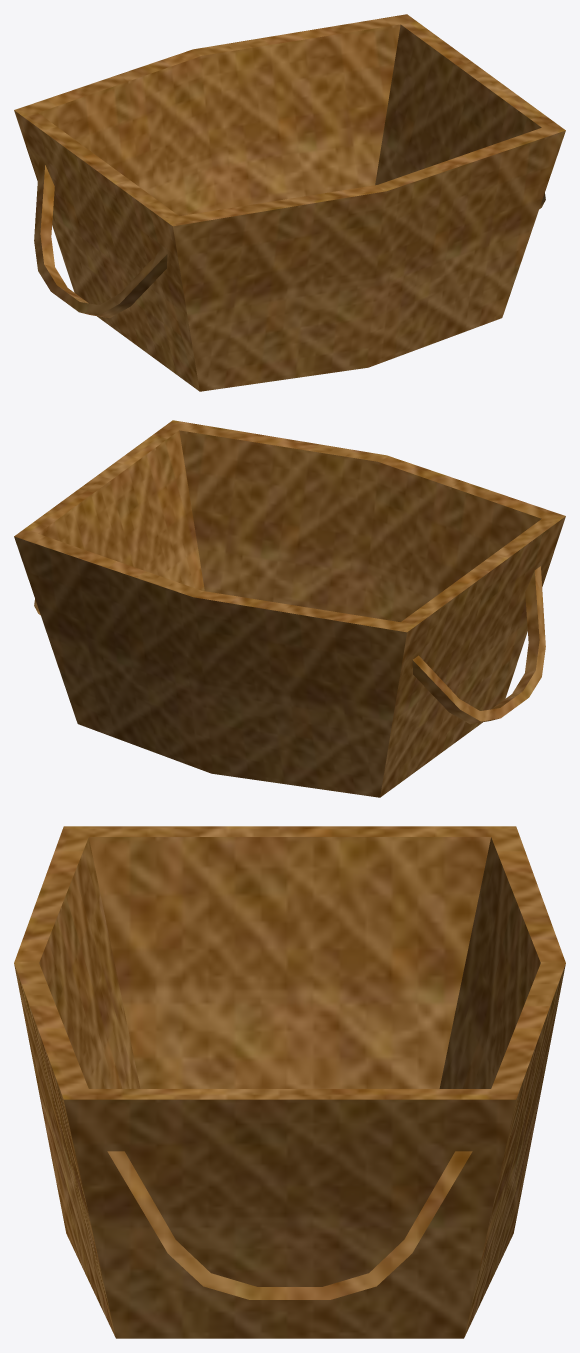
The model's file is basket.gltf.
3 renders of one model, top to bottom at view 1: azimuth 30°, elevation 25°; view 2: azimuth 150°, elevation 25°; view 3: azimuth 270°, elevation 25°, orthographic. The views are drawn at different scales.
Visible parts, largest first — view 1: clothbag; view 2: clothbag; view 3: clothbag.
Boxes of the visible parts, bbox=[...] form: clothbag: bbox=[14, 14, 565, 391]; clothbag: bbox=[14, 420, 565, 797]; clothbag: bbox=[14, 826, 565, 1338].
Size of the model in its own units: 0.9142 by 0.3686 by 0.682.
Materials: 1 (1 with a texture image).
